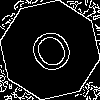O: (25, 25, 83, 85)
